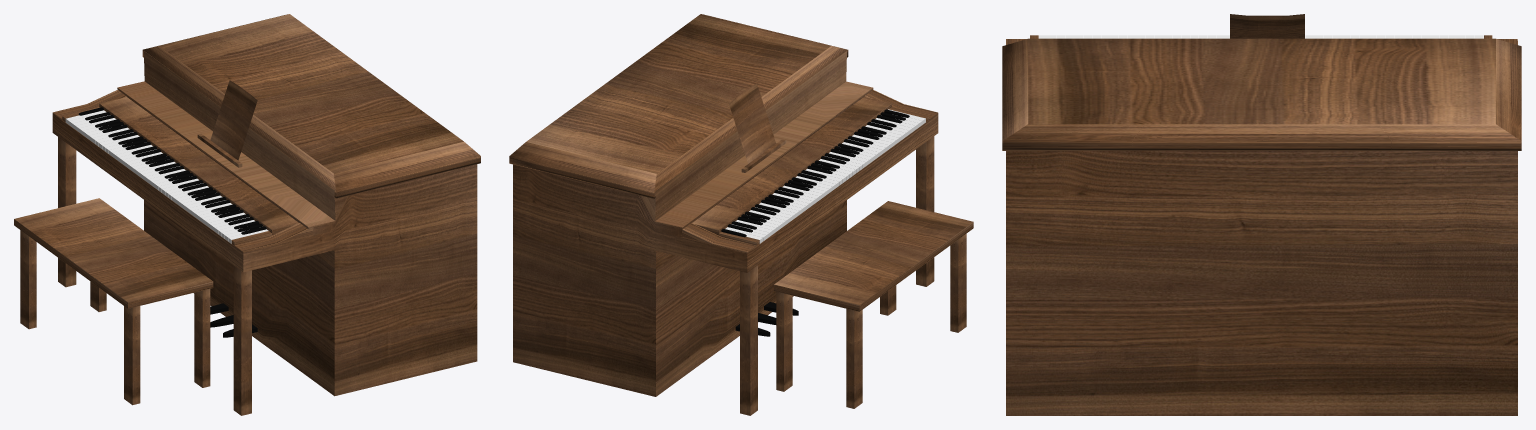
File: black_piano.obj
3 renders of one model, left to right at view 1: azimuth 30°, elevation 25°; view 2: azimuth 150°, elevation 25°; view 3: azimuth 270°, elevation 25°, orthographic. The views are drawn at different scales.
Parts seen in each view (by area): view 1: black_piano:Box001, black_piano:Box002, black_piano:Box008, black_piano:Box007, black_piano:Box013, black_piano:Plane001, black_piano:Box009, black_piano:Box010, black_piano:Box004, black_piano:Box012, black_piano:Box005, black_piano:Box006; view 2: black_piano:Box001, black_piano:Box002, black_piano:Box008, black_piano:Box007, black_piano:Box004, black_piano:Plane001, black_piano:Box013, black_piano:Box012, black_piano:Box011, black_piano:Box009, black_piano:Box006, black_piano:Box005; view 3: black_piano:Box001, black_piano:Box002, black_piano:Plane001.
Part boxes in pixels (x1,y1,x2,y2): black_piano:Box001: (52, 51, 477, 396); black_piano:Box002: (142, 14, 480, 198); black_piano:Box008: (14, 198, 213, 308); black_piano:Box007: (99, 97, 298, 235); black_piano:Box013: (233, 265, 251, 415); black_piano:Plane001: (210, 80, 257, 160); black_piano:Box009: (124, 306, 140, 405); black_piano:Box010: (194, 289, 210, 387); black_piano:Box004: (58, 137, 76, 287); black_piano:Box012: (20, 230, 36, 329); black_piano:Box005: (234, 223, 313, 252); black_piano:Box006: (52, 90, 126, 119); black_piano:Box001: (513, 51, 938, 396); black_piano:Box002: (509, 14, 848, 198); black_piano:Box008: (774, 201, 973, 311); black_piano:Box007: (692, 97, 891, 235); black_piano:Box004: (740, 265, 757, 415); black_piano:Plane001: (729, 83, 775, 163); black_piano:Box013: (916, 136, 934, 286); black_piano:Box012: (846, 308, 862, 408); black_piano:Box011: (776, 291, 792, 391); black_piano:Box009: (950, 234, 966, 332); black_piano:Box006: (681, 223, 756, 253); black_piano:Box005: (864, 90, 938, 119); black_piano:Box001: (1006, 41, 1517, 415); black_piano:Box002: (1002, 38, 1521, 150); black_piano:Plane001: (1230, 14, 1304, 38).
Bounding box in the file's own units: 3.21 × 2.3 × 3.46.
